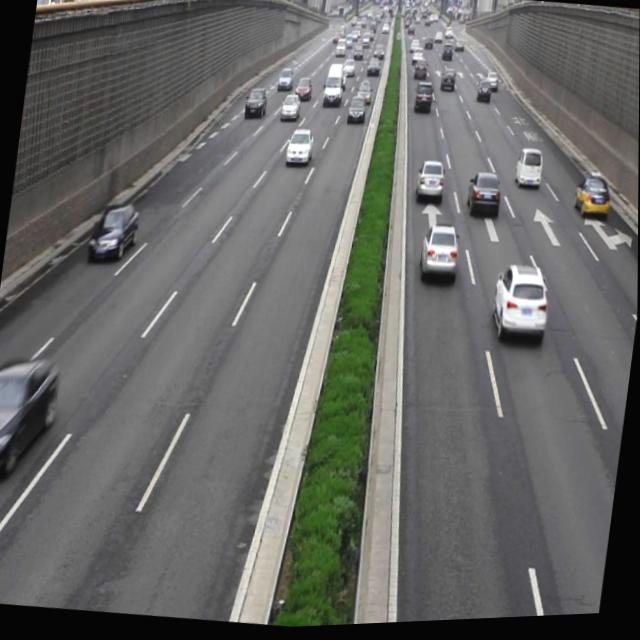car: (0, 351, 60, 484), (486, 264, 553, 351), (86, 199, 141, 266), (415, 222, 461, 287), (571, 175, 612, 226), (464, 173, 503, 225), (412, 159, 447, 208), (284, 126, 315, 172), (512, 148, 543, 192), (243, 85, 269, 121), (344, 96, 366, 127), (293, 75, 315, 106), (279, 93, 301, 123)
